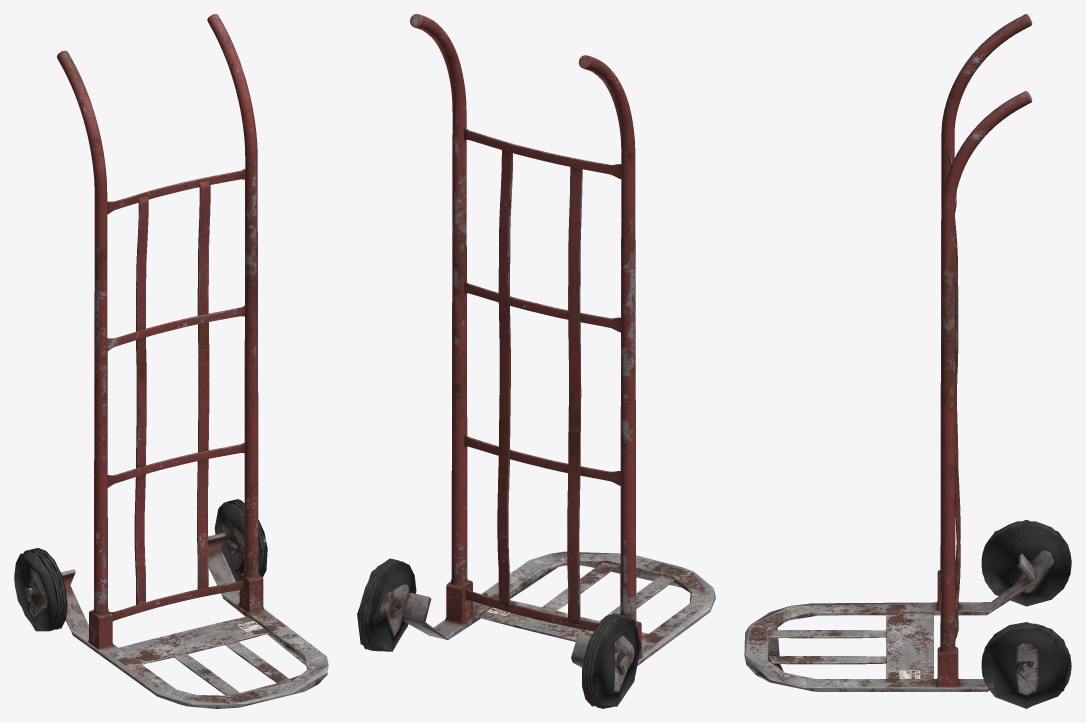
File: hand_truck.glb
The picture shows the model from 3 angles, left to right: view 1: azimuth 30°, elevation 25°; view 2: azimuth 150°, elevation 25°; view 3: azimuth 270°, elevation 25°; orthographic projection. The views are drawn at different scales.
Parts seen in each view (by area): view 1: hand_truck; view 2: hand_truck; view 3: hand_truck.
Part boxes in pixels (x1=…): hand_truck: x1=14, y1=14, x2=328, y2=708; hand_truck: x1=357, y1=14, x2=715, y2=708; hand_truck: x1=744, y1=14, x2=1071, y2=708.
Size of the model in its own units: 0.5789 by 1.4 by 0.6921.
1 material, 1 textured.
